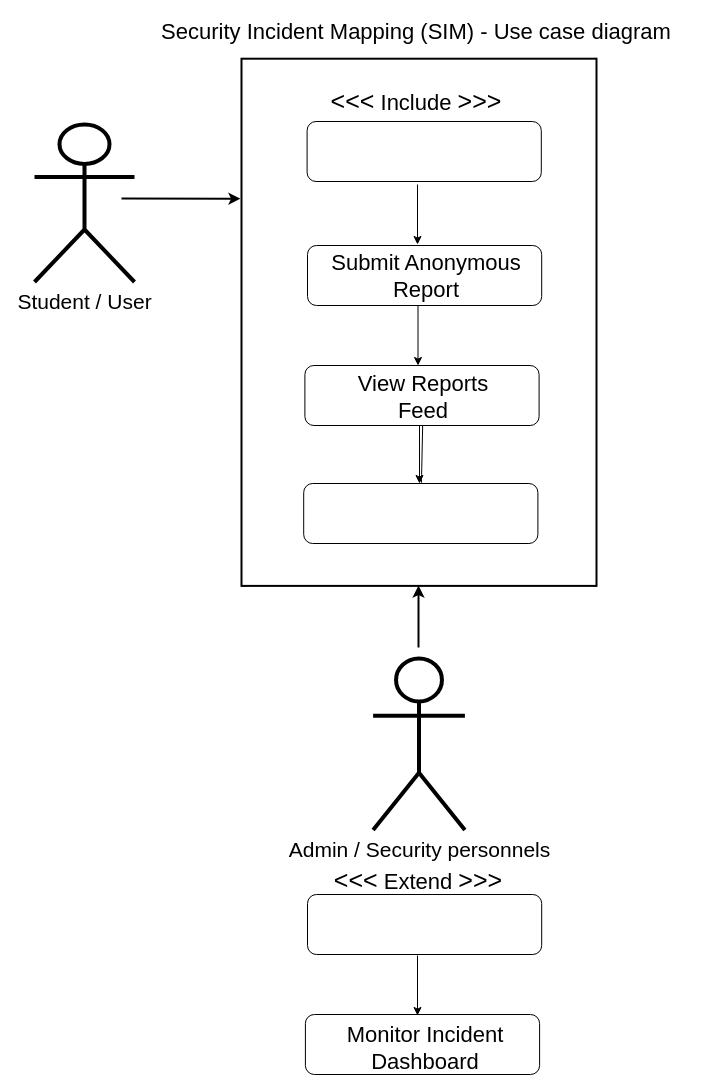
This 714x1092 diagram has some shape labels left out. Each missing label, with the box of its shape:
Manage Incident Reports: (306, 894, 542, 954)
Report Security Incident: (306, 120, 541, 182)
View Incident Dashboard: (303, 482, 538, 544)
